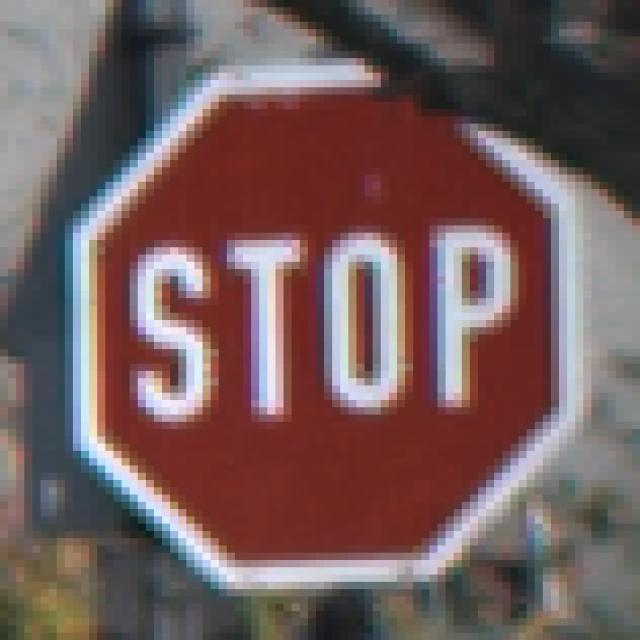stop: (65, 62, 589, 597)
